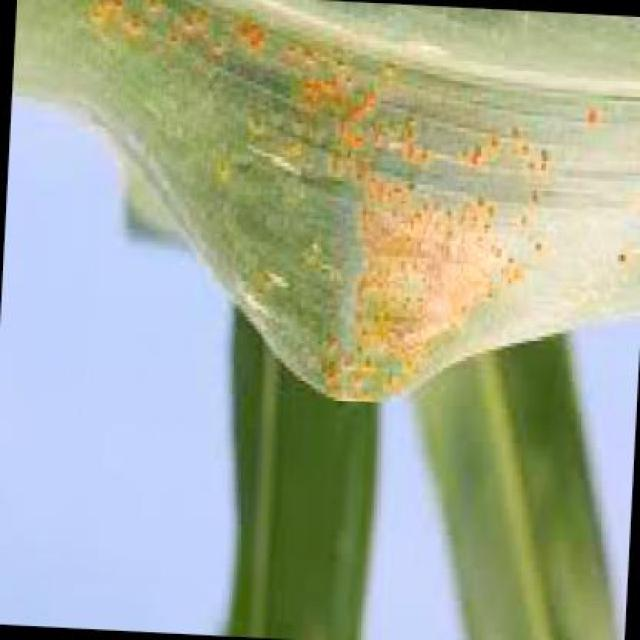Corn_Rust: (53, 12, 620, 440)
